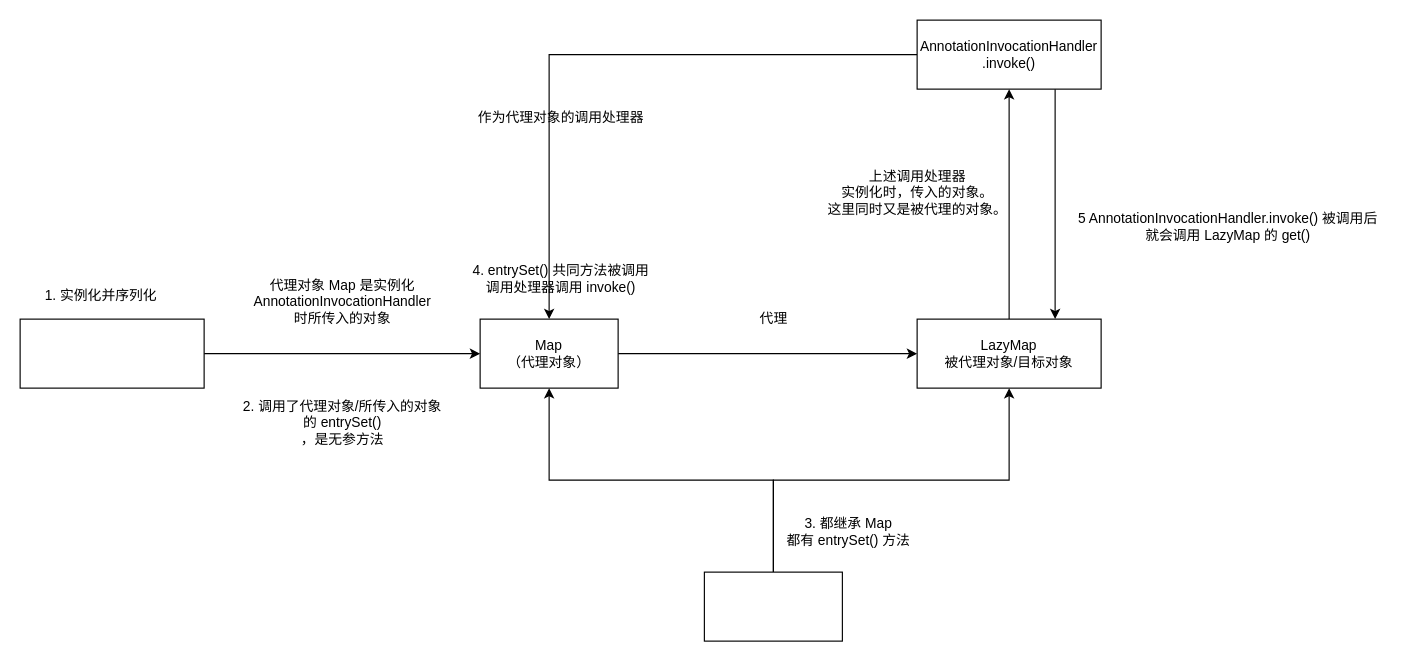
The diagram is 1409 pixels wide and 661 high, and some of its shapes have lost their labels. Each missing label, with the centre of its shape:
"AnnotationInvocationHandler .readObject" goes at (111,353).
"Map" goes at (772,606).
